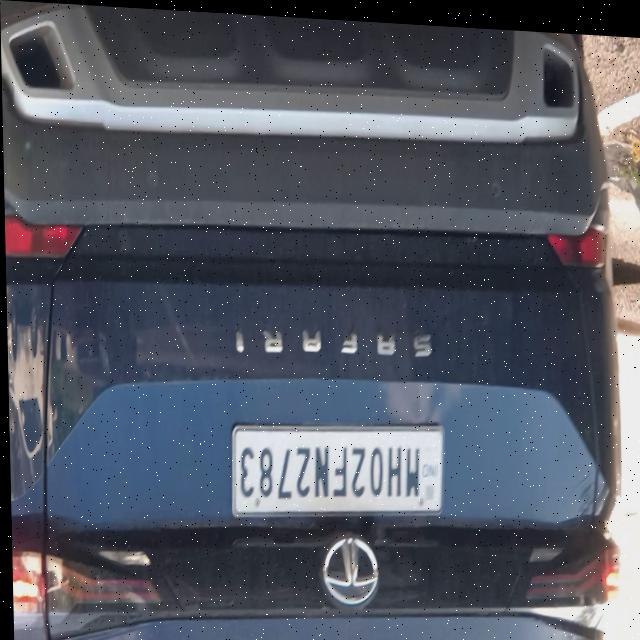plate: (226, 406, 445, 528)
